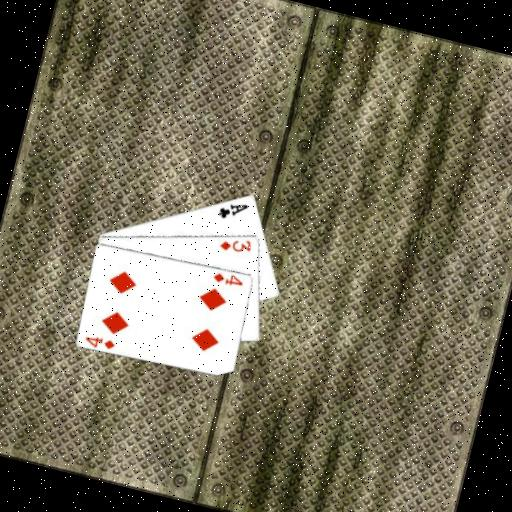3D: (216, 230, 255, 257)
4D: (210, 268, 247, 290), (82, 331, 118, 353)
AC: (214, 195, 251, 226)
